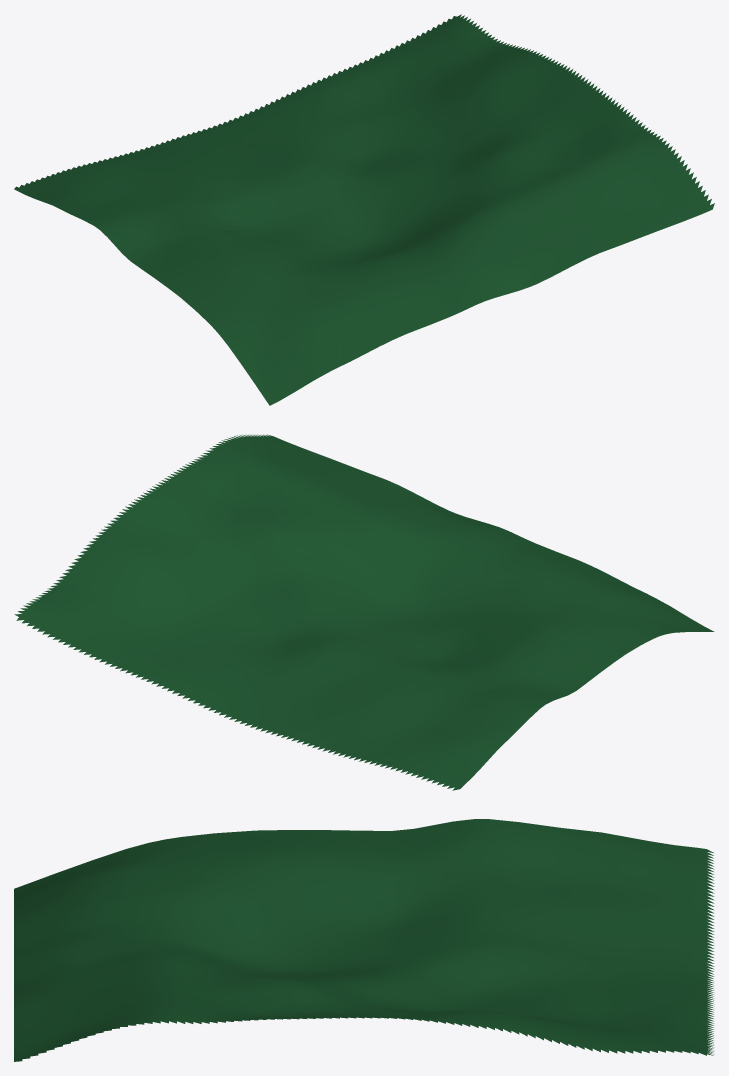
Rendered from payo_land_x2_ym1_lod2.glb.
3 renders of one model, top to bottom at view 1: azimuth 30°, elevation 25°; view 2: azimuth 150°, elevation 25°; view 3: azimuth 270°, elevation 25°, orthographic. The views are drawn at different scales.
Parts seen in each view (by area): view 1: payo_land_x2_ym1; view 2: payo_land_x2_ym1; view 3: payo_land_x2_ym1.
Part boxes in pixels (x1,y1,x2,y2): payo_land_x2_ym1: (14, 14, 714, 405); payo_land_x2_ym1: (14, 434, 714, 790); payo_land_x2_ym1: (14, 819, 714, 1061).
Bounding box in the file's own units: 258 × 67.65 × 258.
